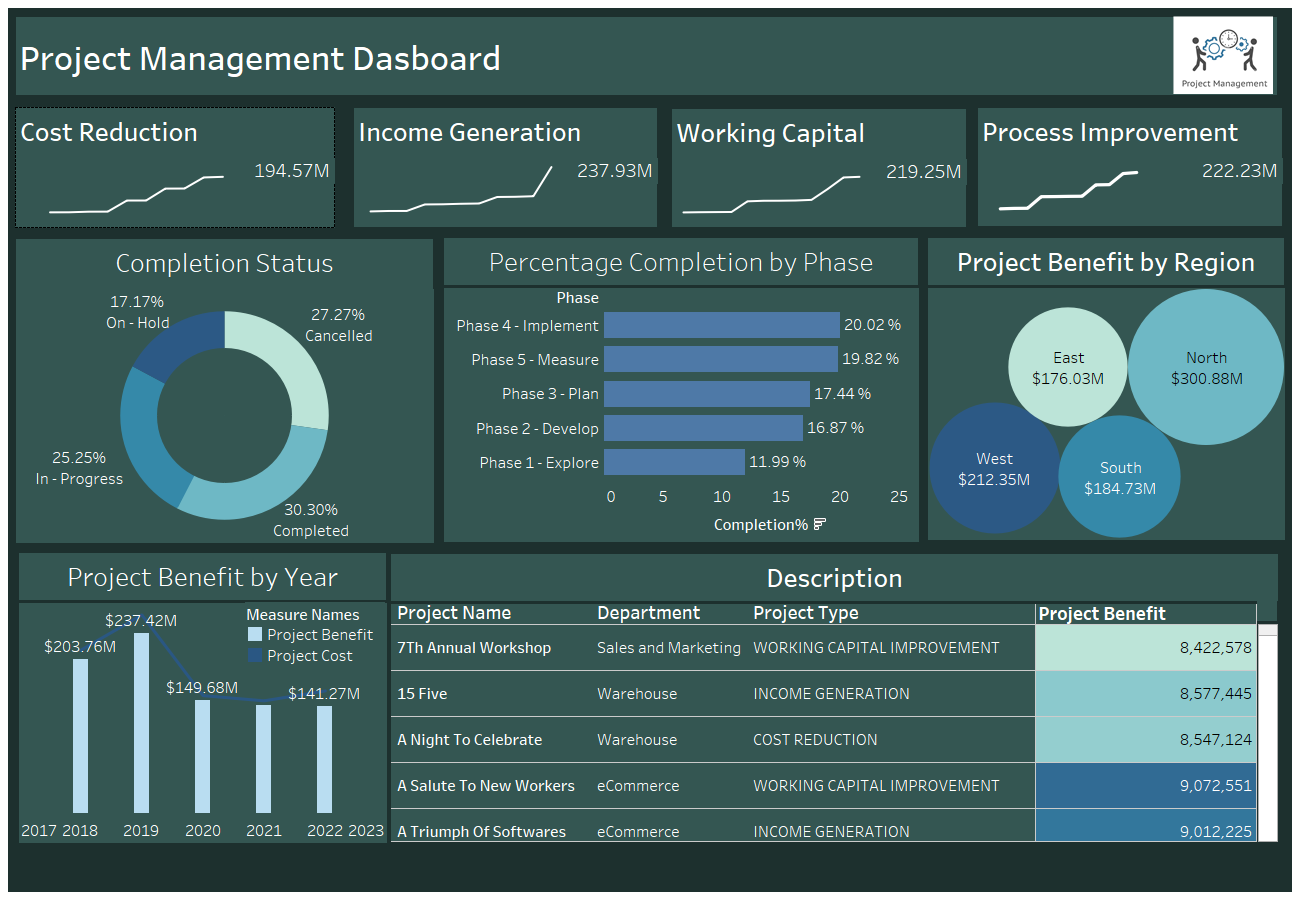

This screenshot's page, from the dashboard's own definition file:
{"tool":"tableau","page":{"name":"Dashboard 1","canvas":[1300,900],"ordinal":0},"visuals":[{"type":"text","box":[16,17,1264,78]},{"type":"worksheet","title":"Cost red","mark":"Automatic","box":[15,107,329,121]},{"type":"worksheet","title":"Inc Gen","mark":"Automatic","box":[354,108,305,119]},{"type":"worksheet","title":"Pro imp","mark":"Automatic","box":[978,108,304,118]},{"type":"worksheet","title":"working capital","mark":"Automatic","box":[672,109,294,118]},{"type":"worksheet","title":"Inc gen graph","mark":"Line","rows":["Project Benefit "],"cols":["Start Date"],"box":[361,148,199,70]},{"type":"worksheet","title":"Process imp graph","mark":"Line","rows":["Project Benefit "],"cols":["Start Date"],"box":[993,153,150,67]},{"type":"worksheet","title":"Cost grph","mark":"Line","rows":["Project Benefit "],"cols":["Start Date"],"box":[40,158,192,65]},{"type":"worksheet","title":"Working Capital Graph","mark":"Line","rows":["Project Benefit "],"cols":["Start Date"],"box":[675,158,192,65]},{"type":"worksheet","title":"Sheet 1","mark":"Pie","rows":["Calculation_1396678894522290181","Calculation_1396678894522298376"],"box":[16,239,371,303]},{"type":"worksheet","title":"Sheet 2","mark":"Circle","box":[928,239,356,300]},{"type":"worksheet","title":"Sheet 3 (2)","mark":"Bar","rows":["Phasessss"],"cols":["value"],"box":[393,240,525,302]},{"type":"worksheet","title":"Sheet 14","mark":"Automatic","rows":["Project Benefit","Project Cost"],"cols":["Year"],"box":[19,553,367,313]},{"type":"worksheet","title":"Sheet 5","mark":"Square","rows":["Project Name","Department","Project Type"],"box":[393,553,893,314]},{"type":"blank","box":[1264,601,20,21]},{"type":"legend","title":"Sheet 14","param":"[federated.1gg6ukj0hwtwmh1ga1x0x09vudab].[:Measure Names]","box":[245,602,140,64]},{"type":"text","box":[1014,604,175,21]}]}

Visuals, with their boxes in screenshot pixels (x1, y1, x2, y2), scaled from the page's 1300x900 canvas onto the 1300x900 screenshot:
text: x1=16, y1=17, x2=1280, y2=95
"Cost red" worksheet: x1=15, y1=107, x2=344, y2=228
"Inc Gen" worksheet: x1=354, y1=108, x2=659, y2=227
"Pro imp" worksheet: x1=978, y1=108, x2=1282, y2=226
"working capital" worksheet: x1=672, y1=109, x2=966, y2=227
"Inc gen graph" worksheet (Line marks): x1=361, y1=148, x2=560, y2=218
"Process imp graph" worksheet (Line marks): x1=993, y1=153, x2=1143, y2=220
"Cost grph" worksheet (Line marks): x1=40, y1=158, x2=232, y2=223
"Working Capital Graph" worksheet (Line marks): x1=675, y1=158, x2=867, y2=223
"Sheet 1" worksheet (Pie marks): x1=16, y1=239, x2=387, y2=542
"Sheet 2" worksheet (Circle marks): x1=928, y1=239, x2=1284, y2=539
"Sheet 3 (2)" worksheet (Bar marks): x1=393, y1=240, x2=918, y2=542
"Sheet 14" worksheet: x1=19, y1=553, x2=386, y2=866
"Sheet 5" worksheet (Square marks): x1=393, y1=553, x2=1286, y2=867
blank: x1=1264, y1=601, x2=1284, y2=622
"Sheet 14" legend: x1=245, y1=602, x2=385, y2=666
text: x1=1014, y1=604, x2=1189, y2=625
